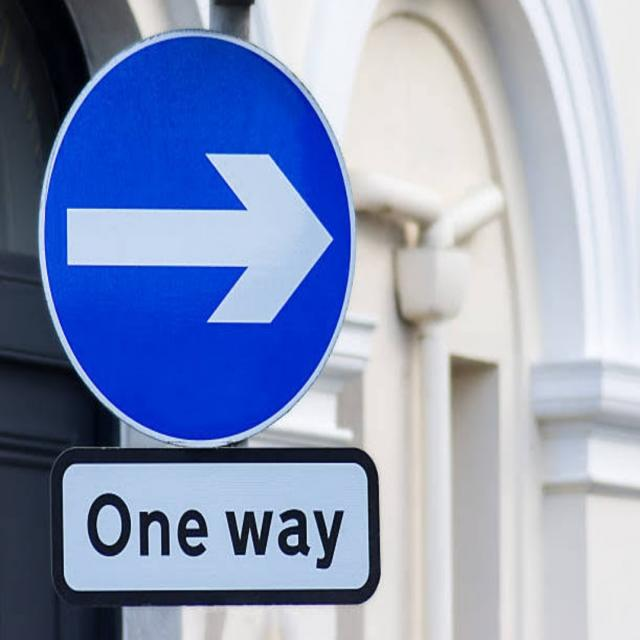Turn Right: (40, 23, 359, 461)
